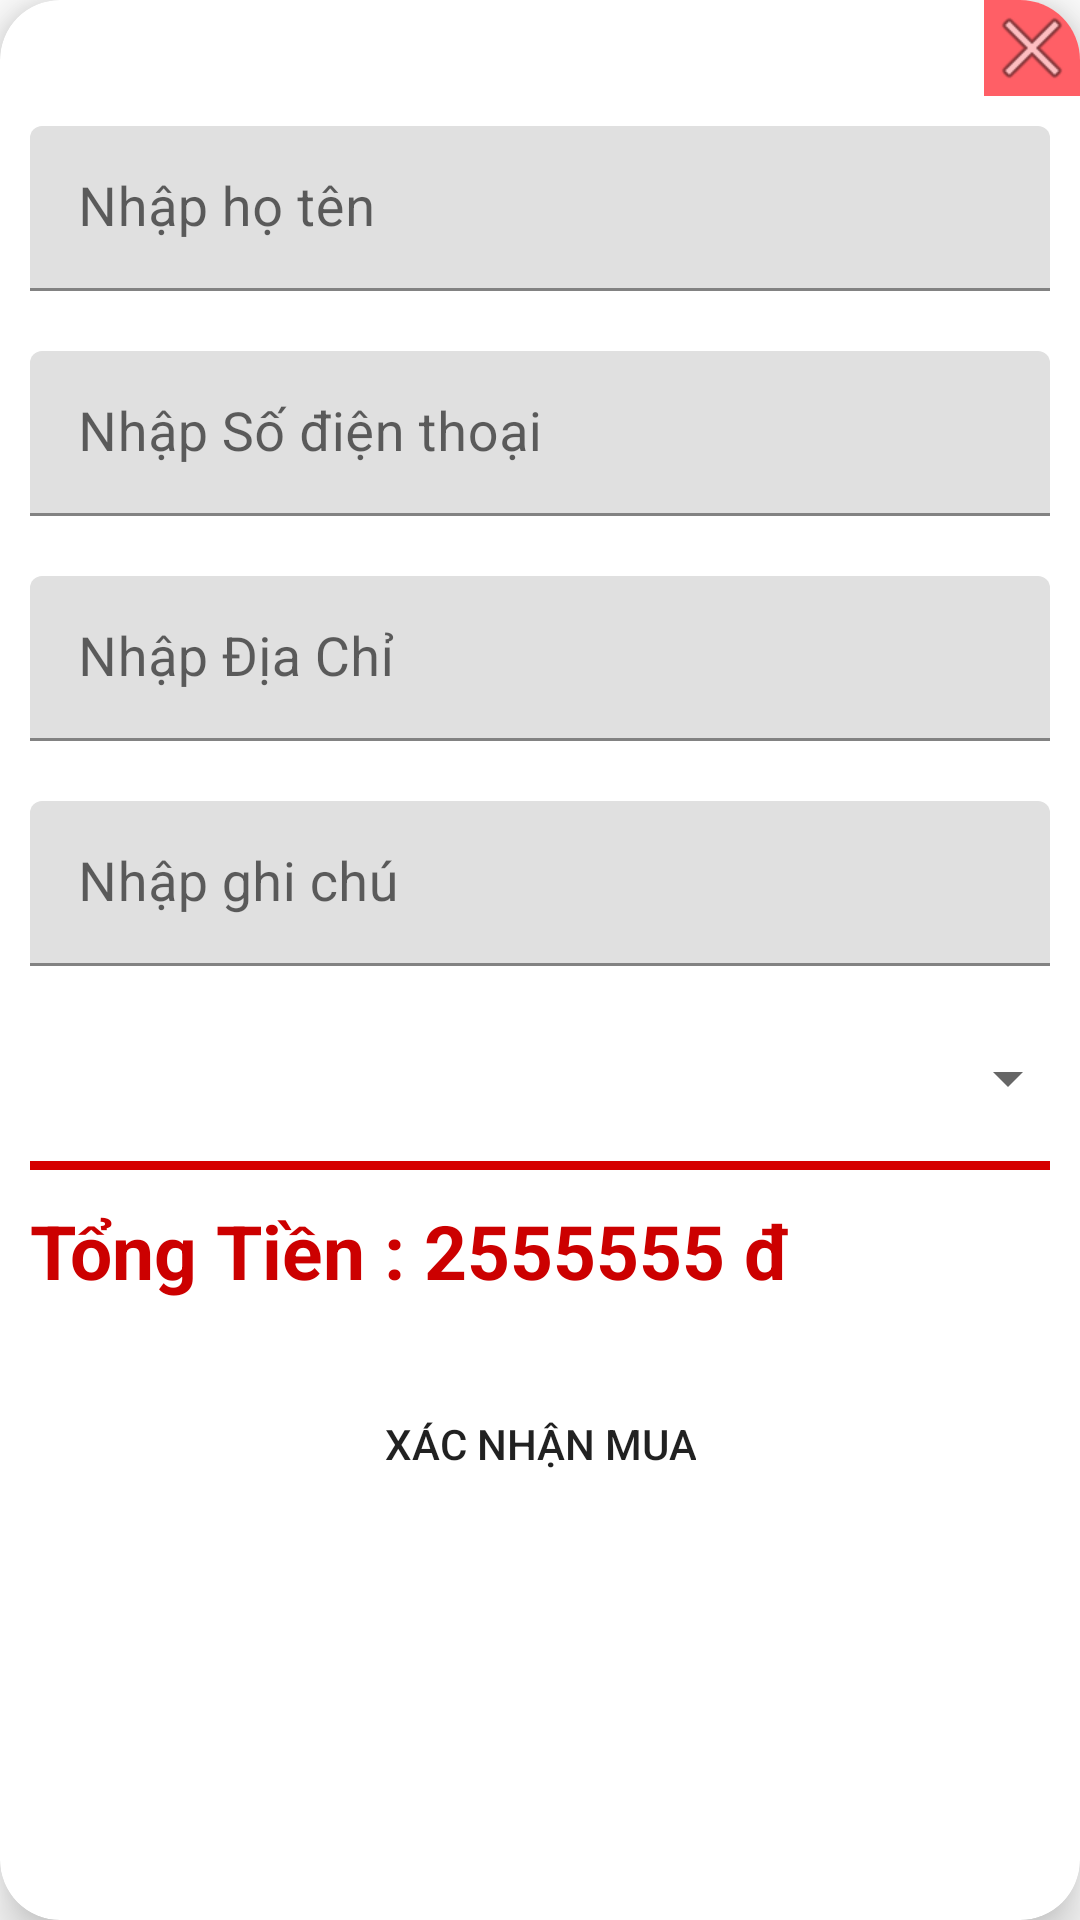

Named icons in this screenshot (1080*1920) and their bounding boxes, (x1, y1, x2, y2):
close clear cancel: (984, 0, 1080, 96)
